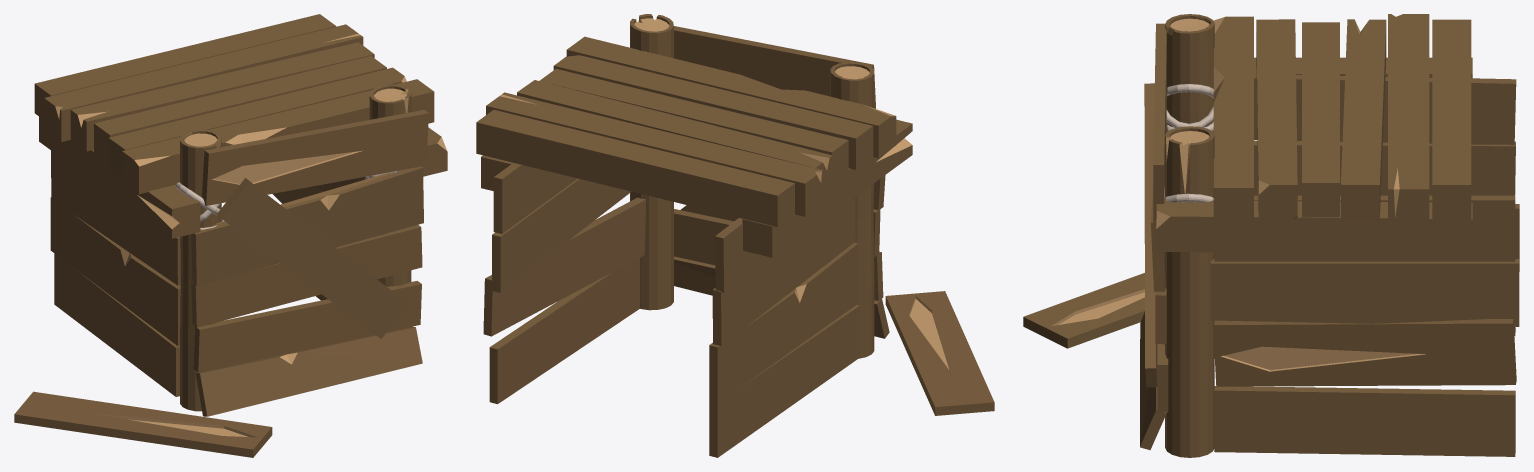
File: Mine entrance closed.fbx
3 renders of one model, left to right at view 1: azimuth 30°, elevation 25°; view 2: azimuth 150°, elevation 25°; view 3: azimuth 270°, elevation 25°, orthographic. The views are drawn at different scales.
Parts seen in each view (by area): view 1: Mine entrance closed; view 2: Mine entrance closed; view 3: Mine entrance closed.
Boxes of the visible parts, box(x1,y1,x2,y2) form: Mine entrance closed: box(14, 14, 447, 457); Mine entrance closed: box(476, 14, 994, 457); Mine entrance closed: box(1023, 14, 1519, 457).
Bounding box in the file's own units: 333 × 207 × 296.
